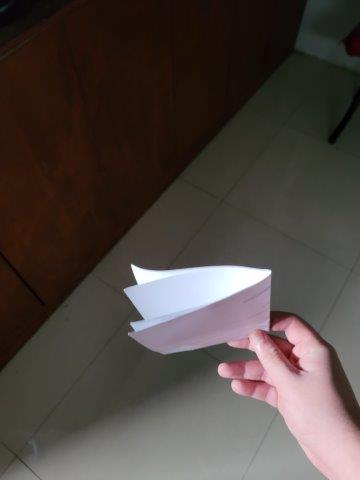kertas: (129, 262, 272, 357)
